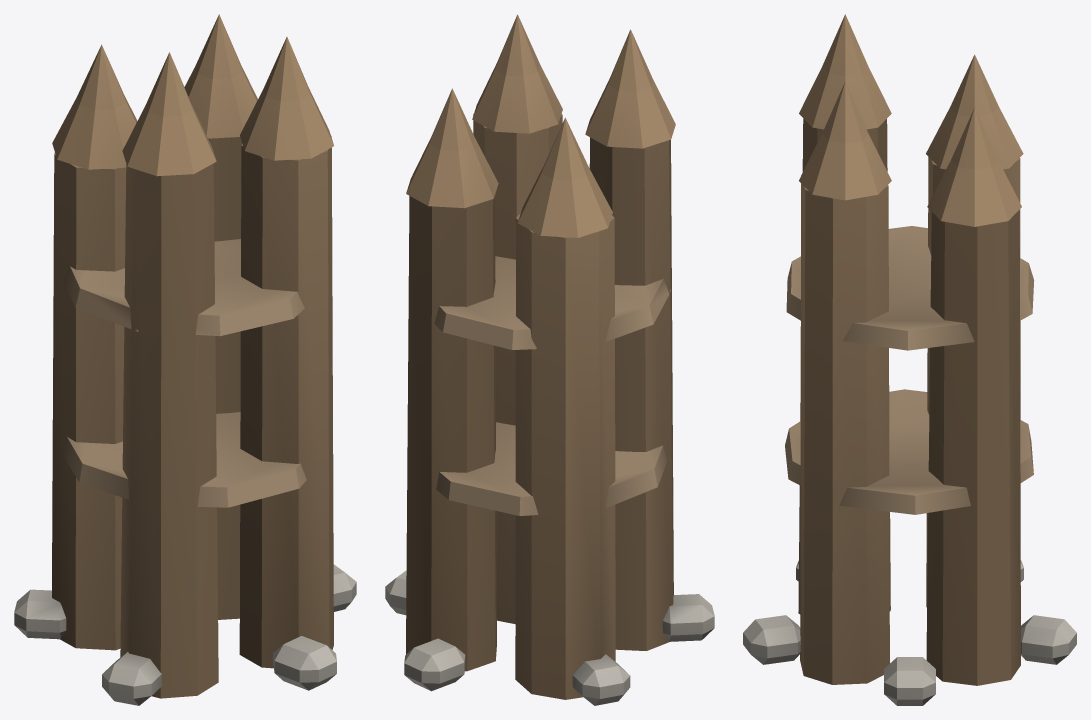
The model's file is bld_chastokol.glb.
3 views of the same model, side by side, from view 1: azimuth 30°, elevation 25°; view 2: azimuth 150°, elevation 25°; view 3: azimuth 270°, elevation 25° (orthographic). The views are drawn at different scales.
Visible parts, largest first — view 1: chastokol; view 2: chastokol; view 3: chastokol.
Part boxes in pixels (x1,y1,x2,y2): chastokol: (14, 14, 356, 705); chastokol: (385, 14, 714, 705); chastokol: (743, 14, 1076, 705).
Size of the model in its own units: 0.4911 by 1.02 by 0.5164.
